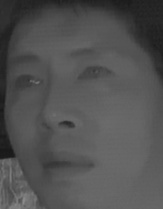eye: (75, 61, 116, 84), (12, 70, 48, 94)
mouth: (39, 150, 94, 183)
